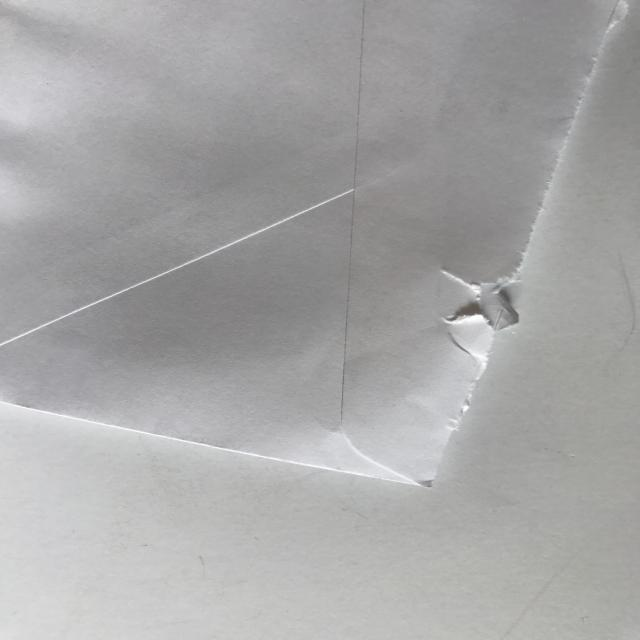paper: (2, 1, 640, 488)
